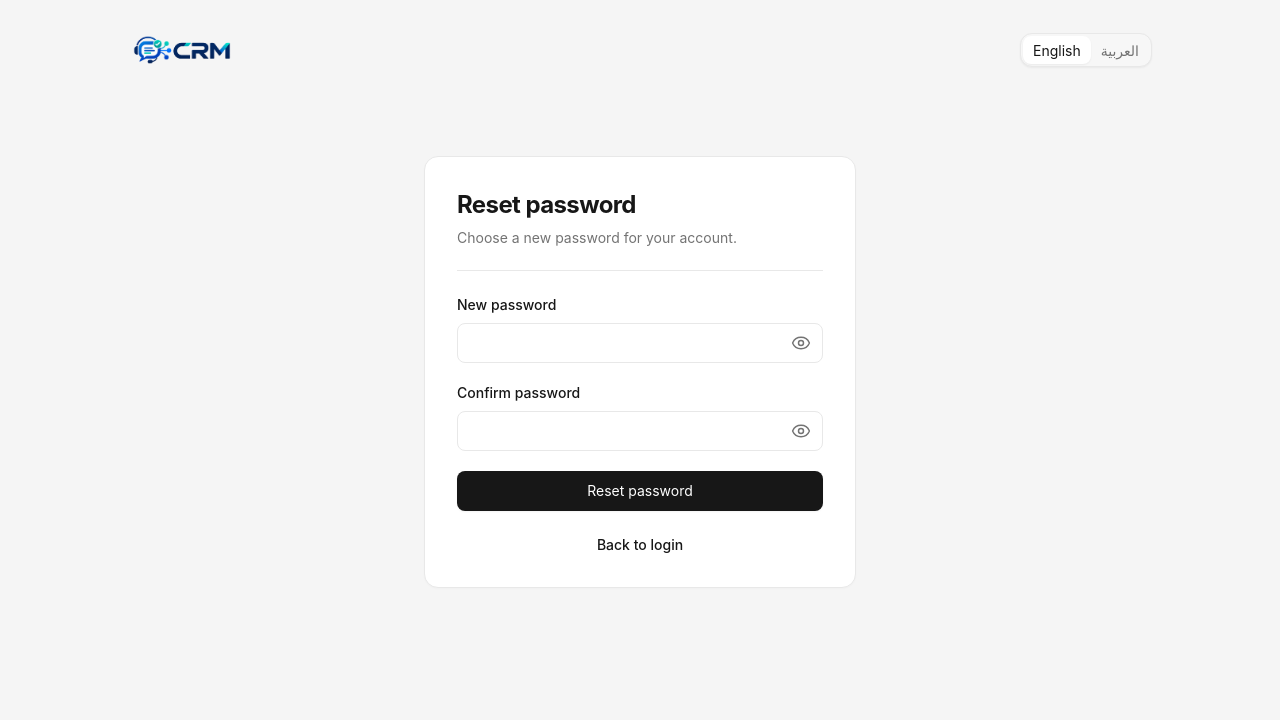
Scenario: ResetPasswordPage › validates password length and match
In the password field labelled "New password": (640, 343) [457,323,823,363], type "short"
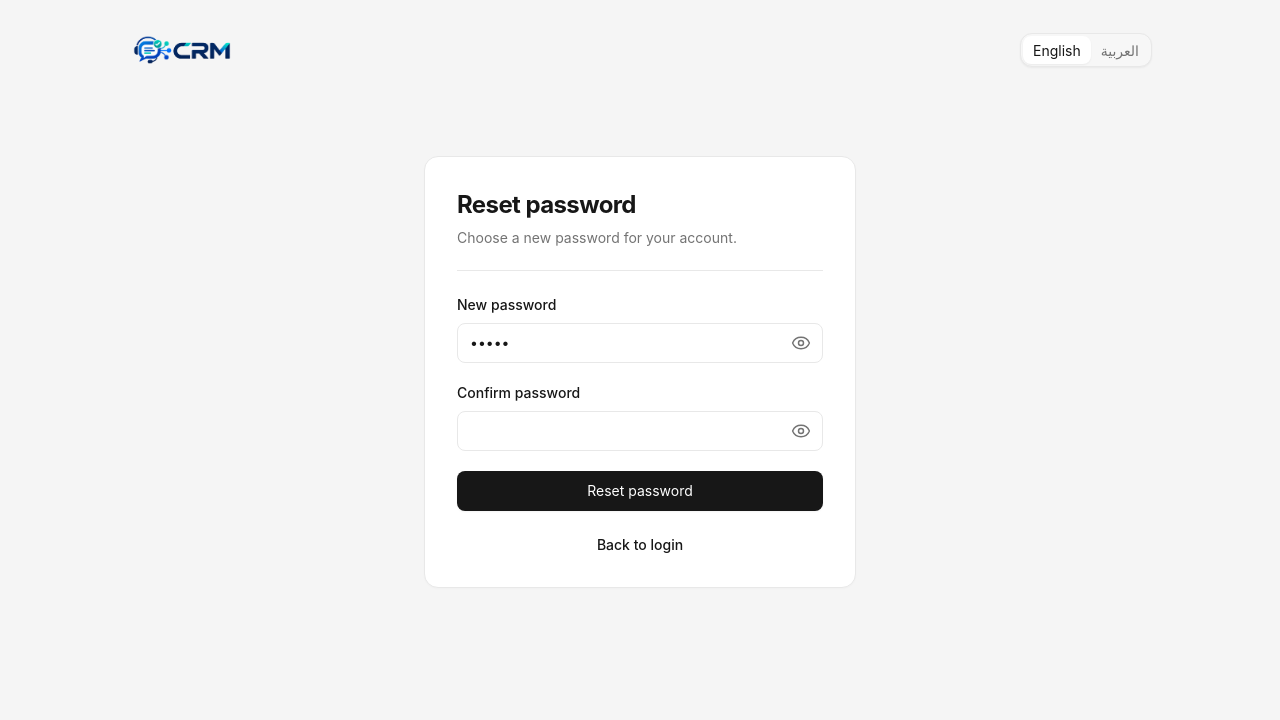
In the password field labelled "Confirm password": (640, 431) [457,411,823,451], type "different"
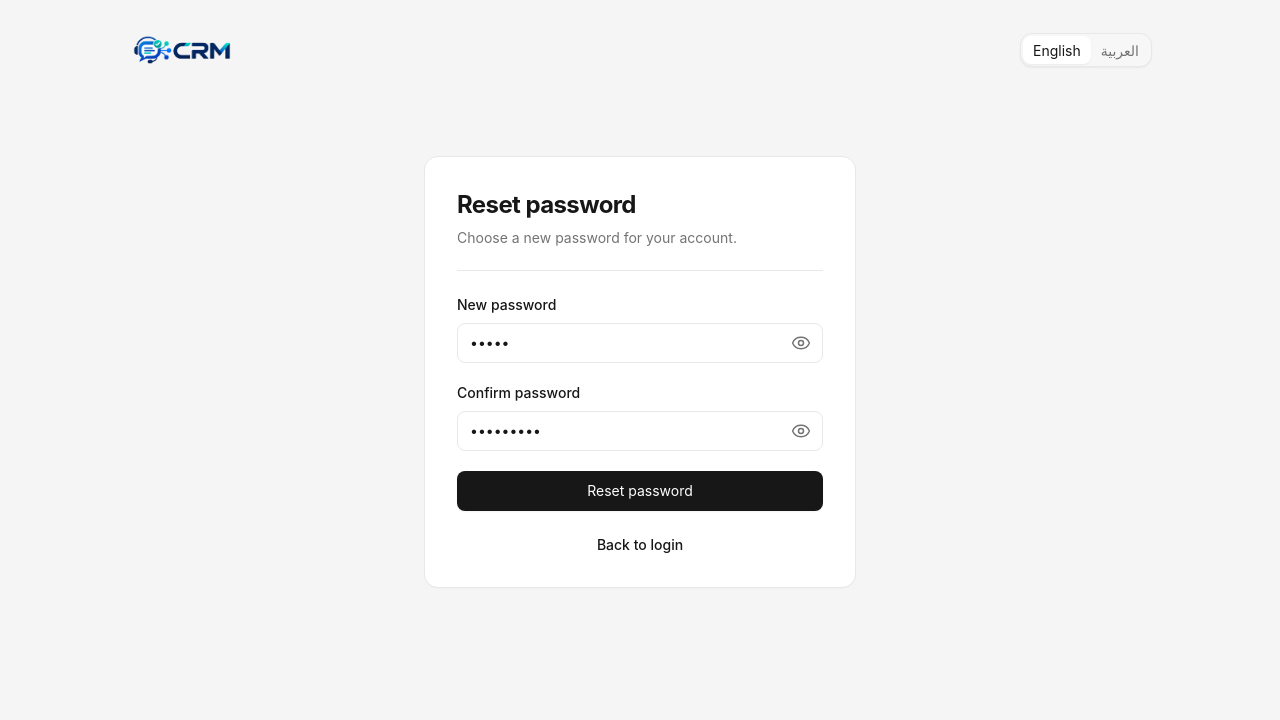
Click the button "Reset password": click(640, 491) [457,471,823,511]
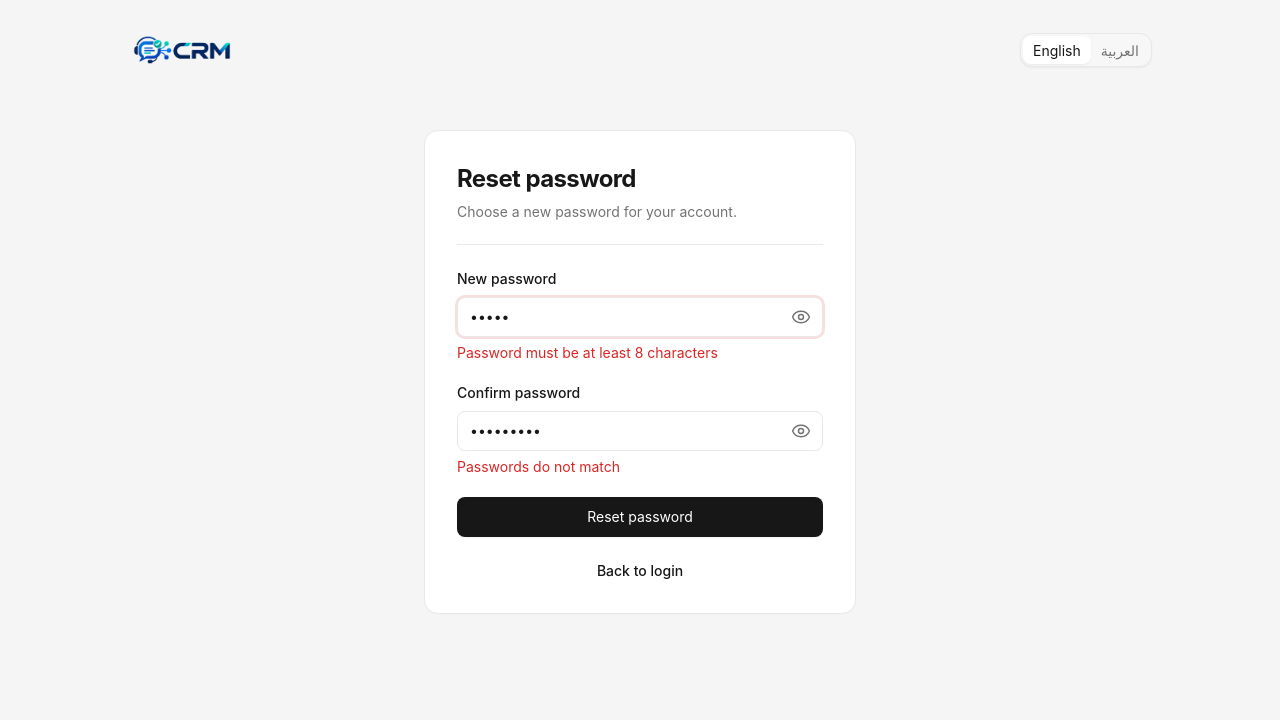
Check: the text "Password must be at least 8 characters" is shown, box [457,344,718,361]
